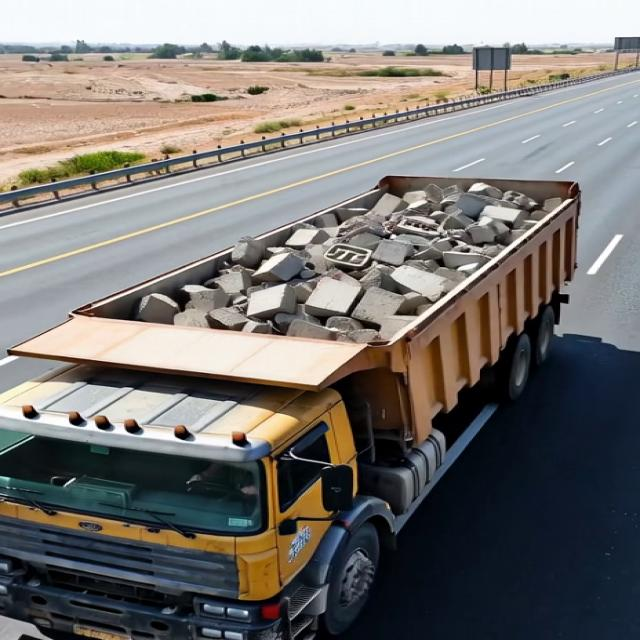trailer: (6, 170, 592, 373)
truck: (0, 138, 620, 640)
